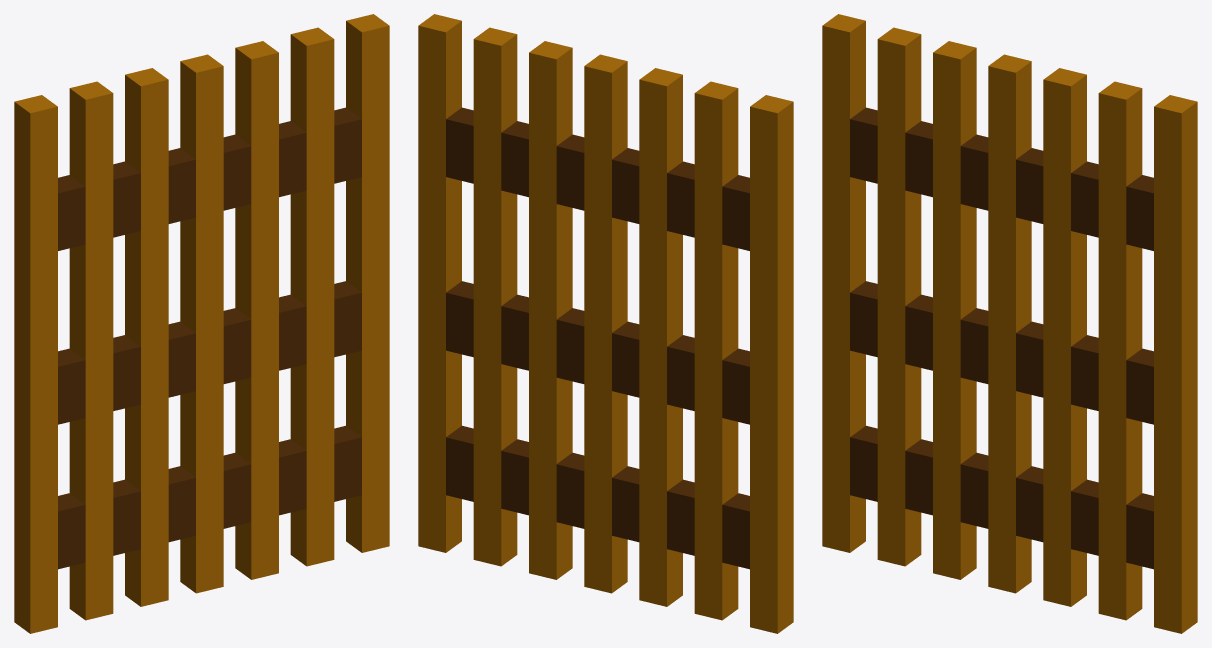
Rendered from plot.obj.
3 renders of one model, left to right at view 1: azimuth 30°, elevation 25°; view 2: azimuth 150°, elevation 25°; view 3: azimuth 330°, elevation 25°, orthographic.
Bounding box in the file's own units: 1.3 × 1.8 × 0.1.
